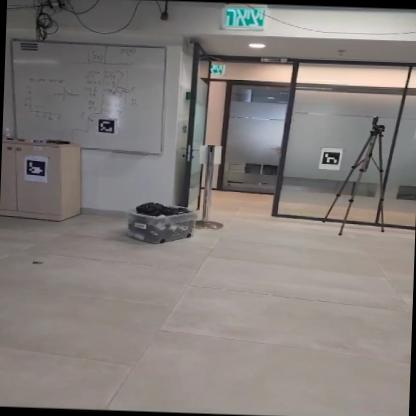open: (170, 74, 292, 226)
